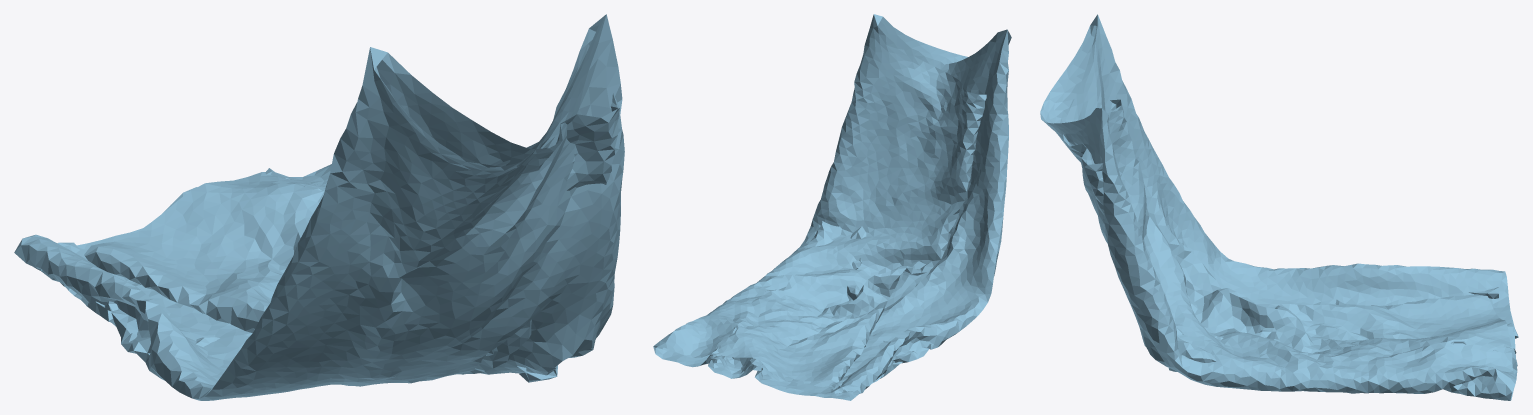
The model's file is frame_07.glb.
The picture shows the model from 3 angles, left to right: view 1: azimuth 30°, elevation 25°; view 2: azimuth 150°, elevation 25°; view 3: azimuth 270°, elevation 25°; orthographic projection. The views are drawn at different scales.
Parts seen in each view (by area): view 1: frame_07.obj; view 2: frame_07.obj; view 3: frame_07.obj.
Part boxes in pixels (x1=…): frame_07.obj: x1=14, y1=14, x2=624, y2=400; frame_07.obj: x1=653, y1=14, x2=1011, y2=400; frame_07.obj: x1=1040, y1=14, x2=1518, y2=400.
Size of the model in its own units: 0.8925 by 0.9795 by 1.46.
